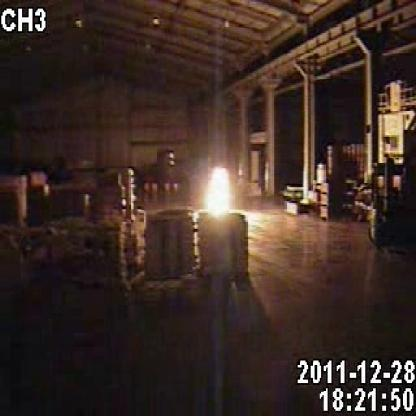fire: (173, 159, 247, 238)
